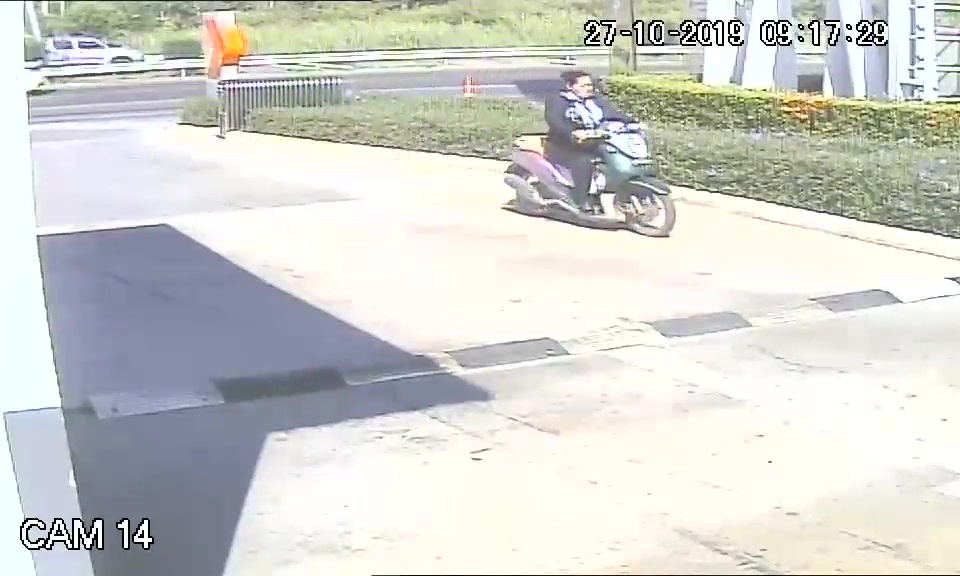motorcycle: (503, 116, 678, 239)
